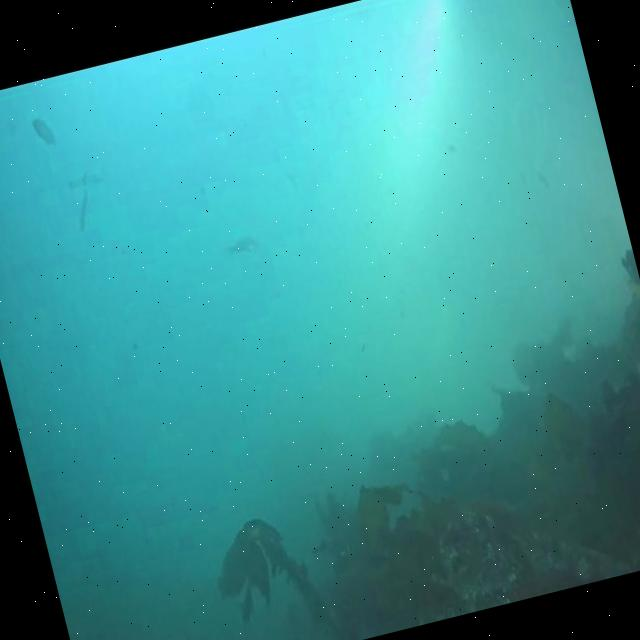fish: (67, 184, 99, 232), (224, 234, 261, 260), (30, 113, 56, 149)
